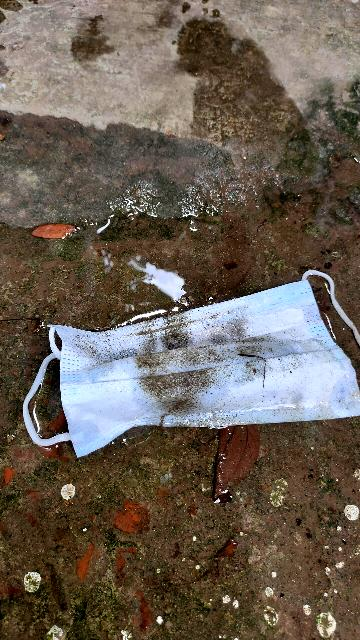mask: (16, 204, 360, 466)
